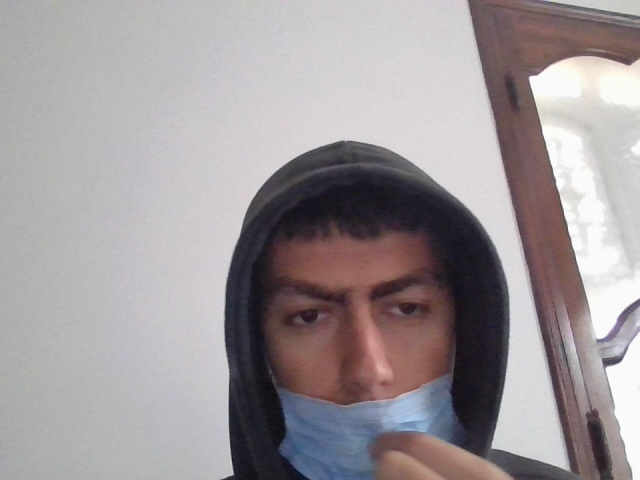mask_weared_incorrect: (248, 197, 480, 480)
